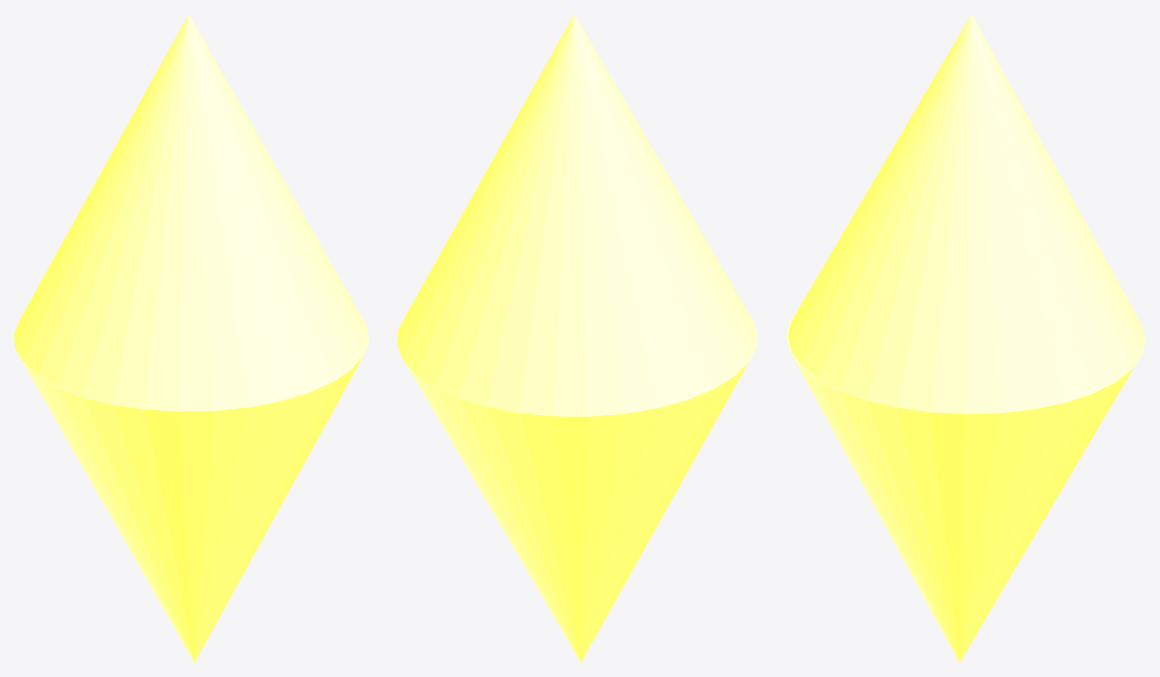
The model's file is marker0.glb.
3 renders of one model, left to right at view 1: azimuth 30°, elevation 25°; view 2: azimuth 150°, elevation 25°; view 3: azimuth 270°, elevation 25°, orthographic.
Visible parts, largest first — view 1: Cone; view 2: Cone; view 3: Cone.
Boxes of the visible parts, <box> form: Cone: <box>14,14,368,662</box>; Cone: <box>397,14,757,662</box>; Cone: <box>786,14,1145,662</box>.
Size of the model in its own units: 0.6933 by 1.39 by 0.6953.
